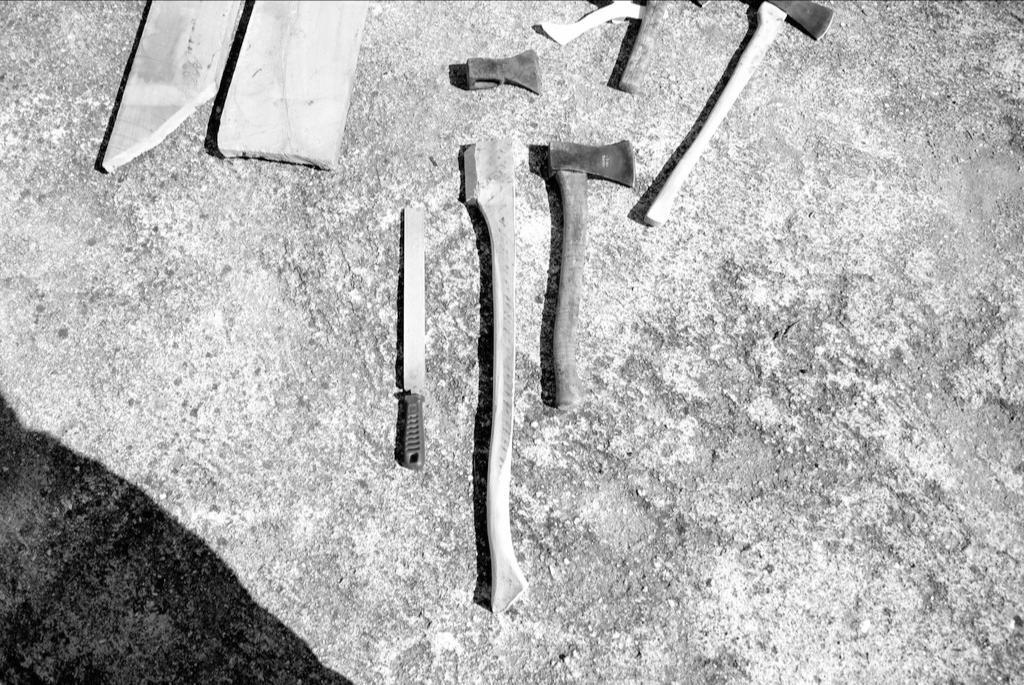melee: (640, 0, 832, 234), (530, 127, 642, 407), (392, 192, 434, 471)
